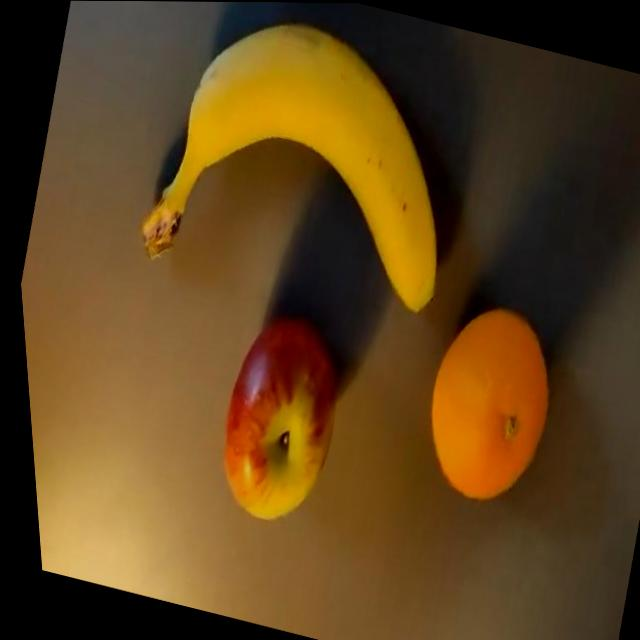Apple: (190, 305, 357, 534)
Banana: (116, 1, 489, 330)
Orange: (397, 294, 569, 515)
